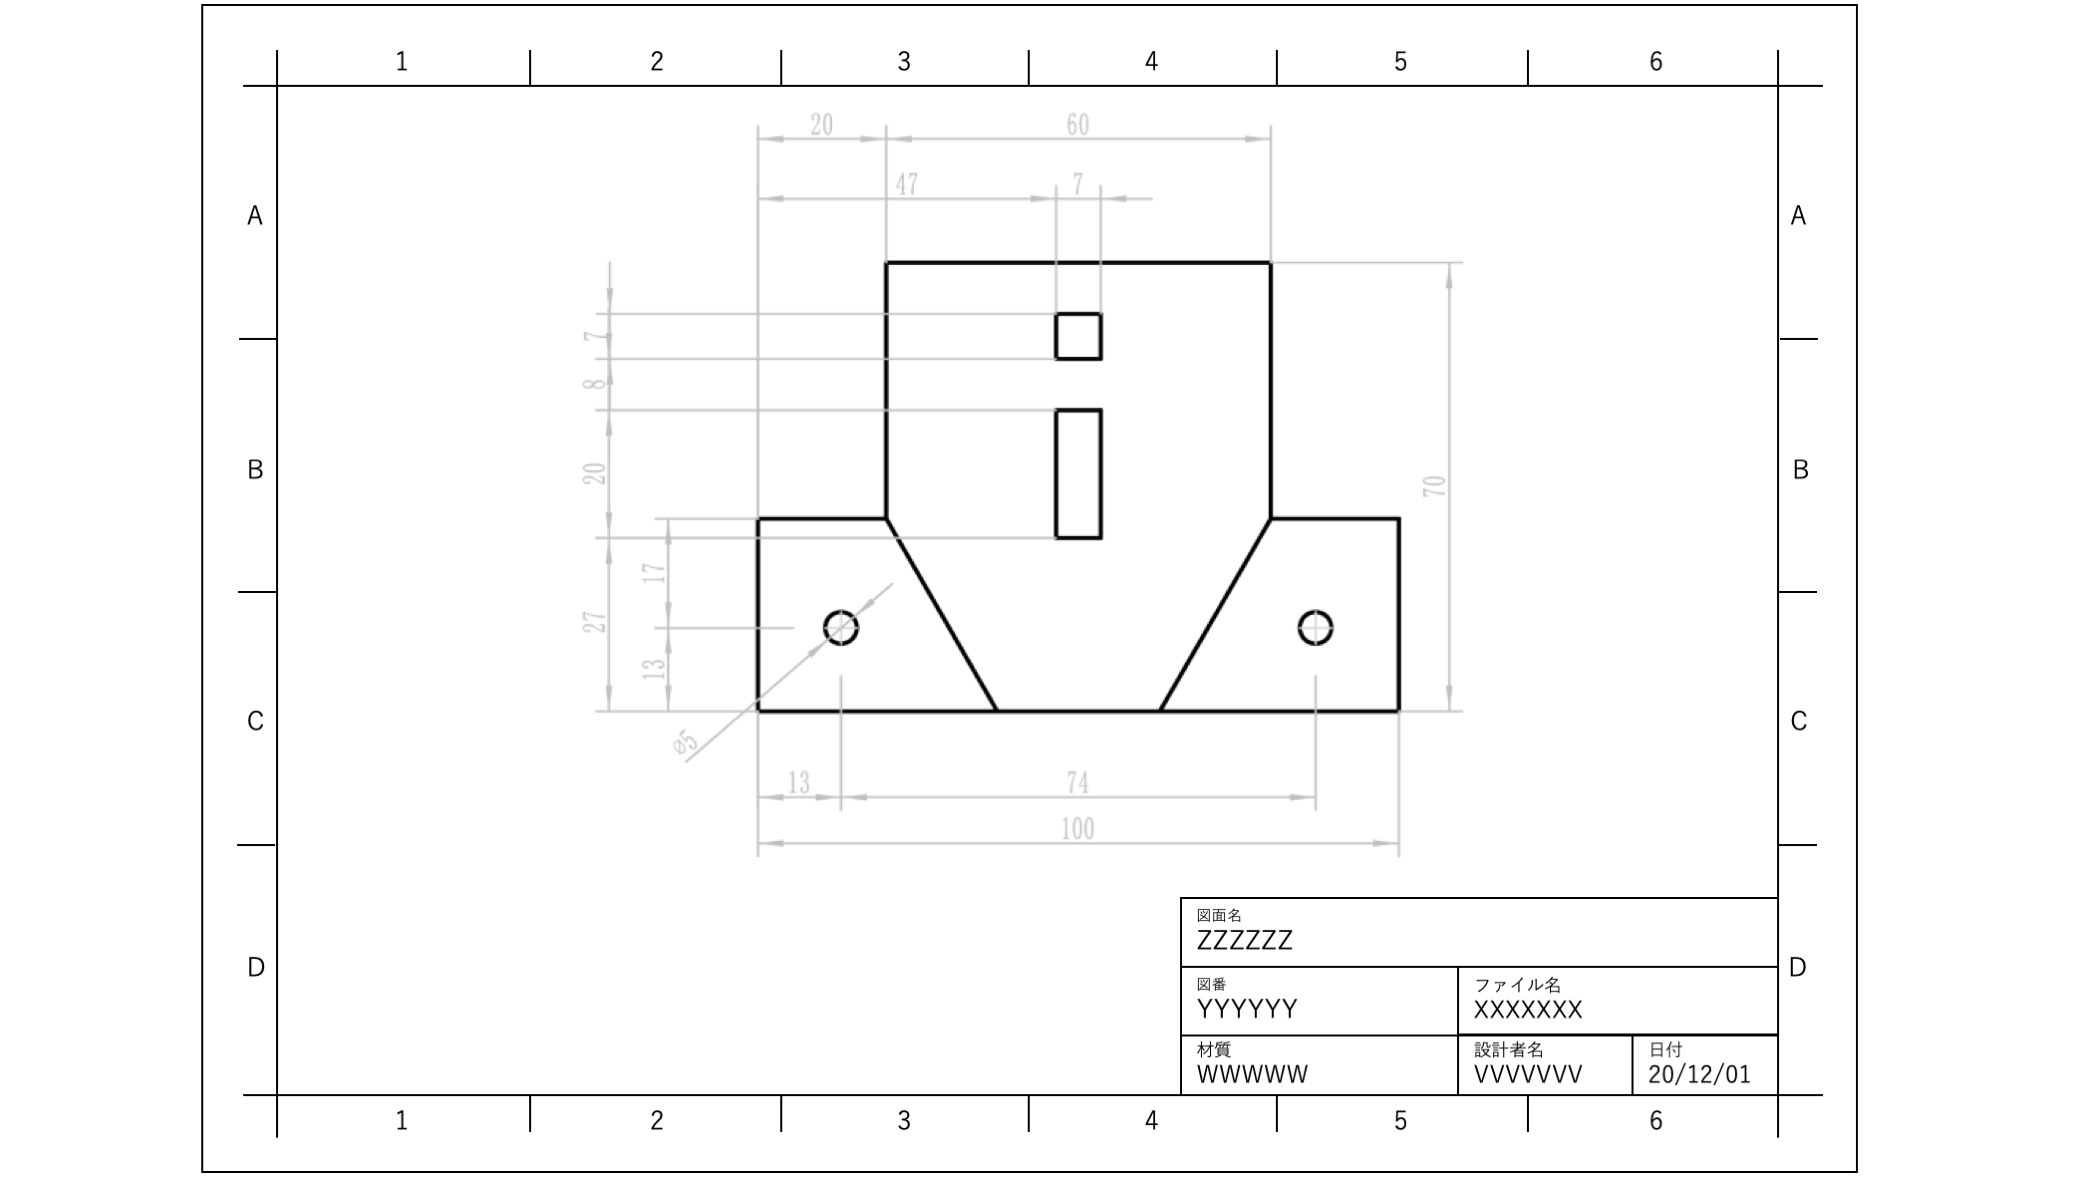circle: (1285, 606, 1341, 652), (812, 603, 865, 649)
rectangle: (1050, 398, 1121, 554), (1046, 300, 1113, 371)
